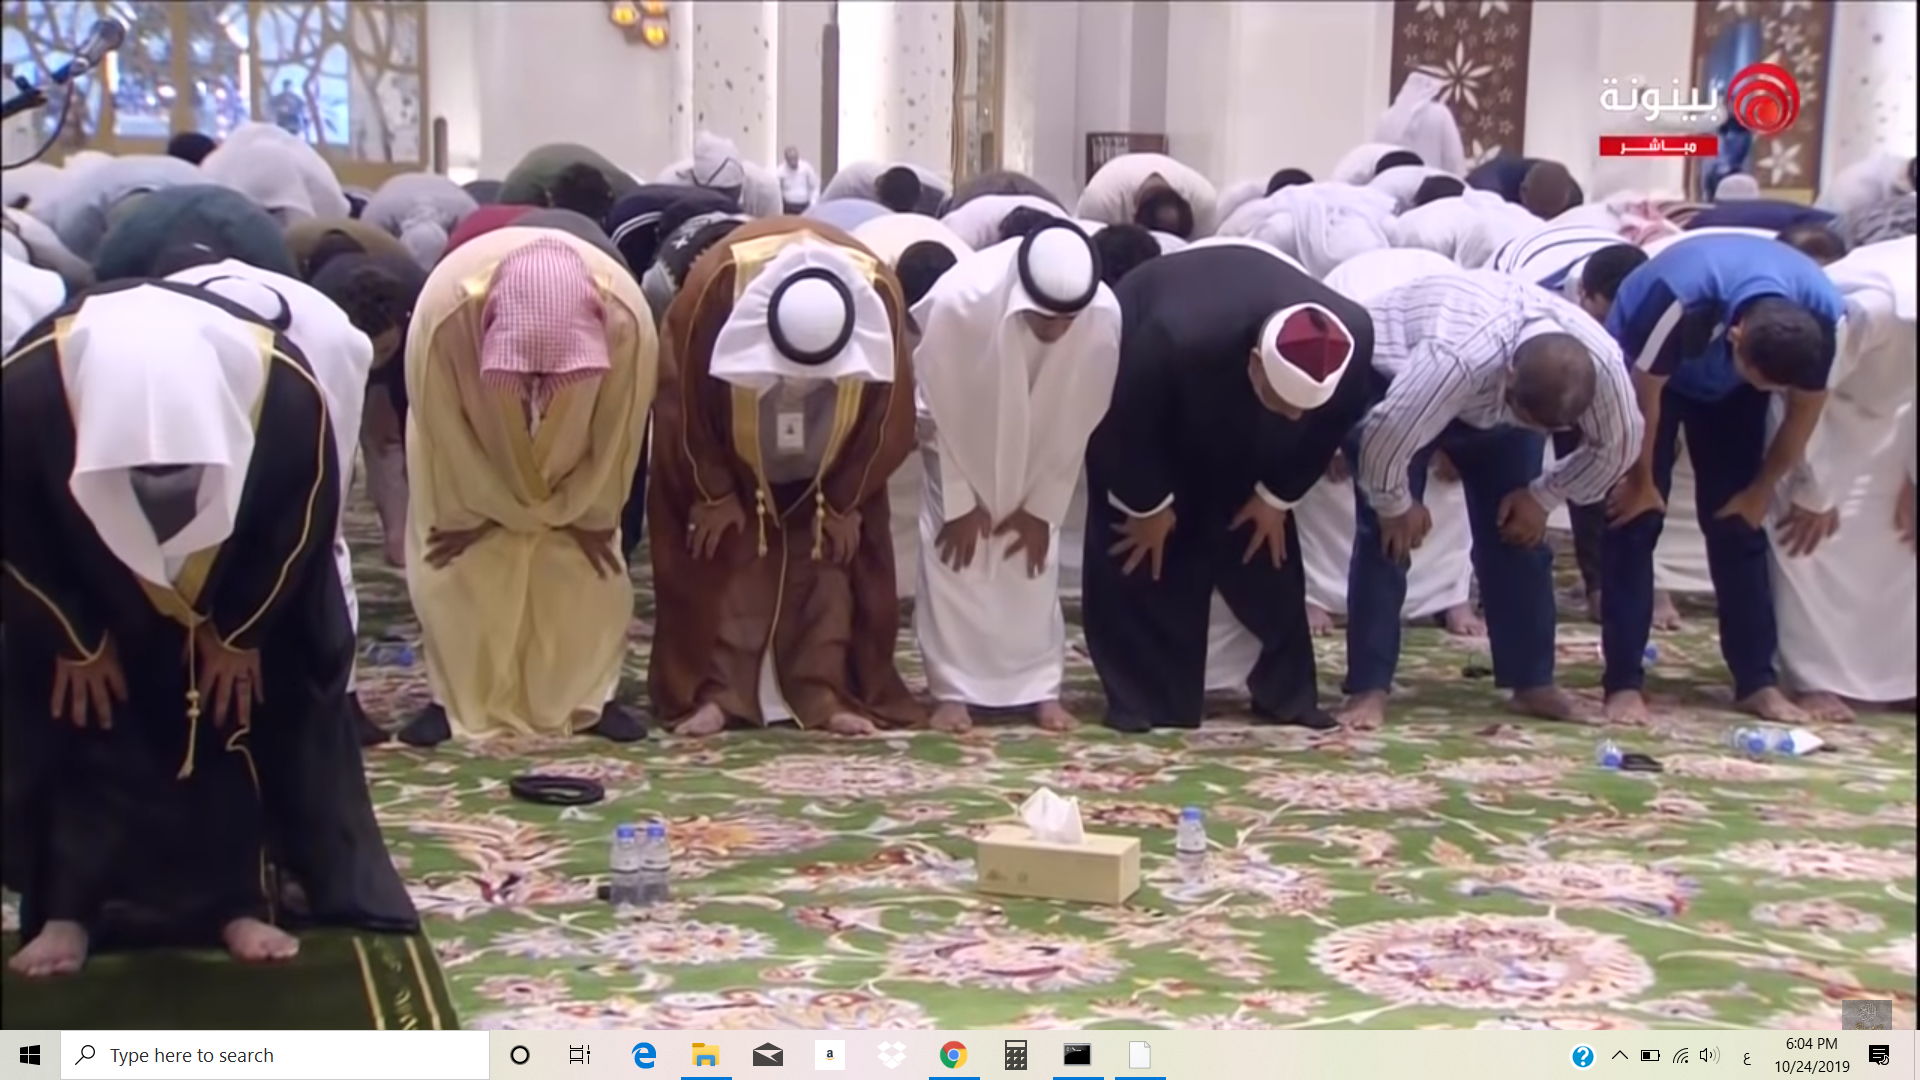ruku: (1, 204, 367, 1033), (438, 183, 687, 899)
